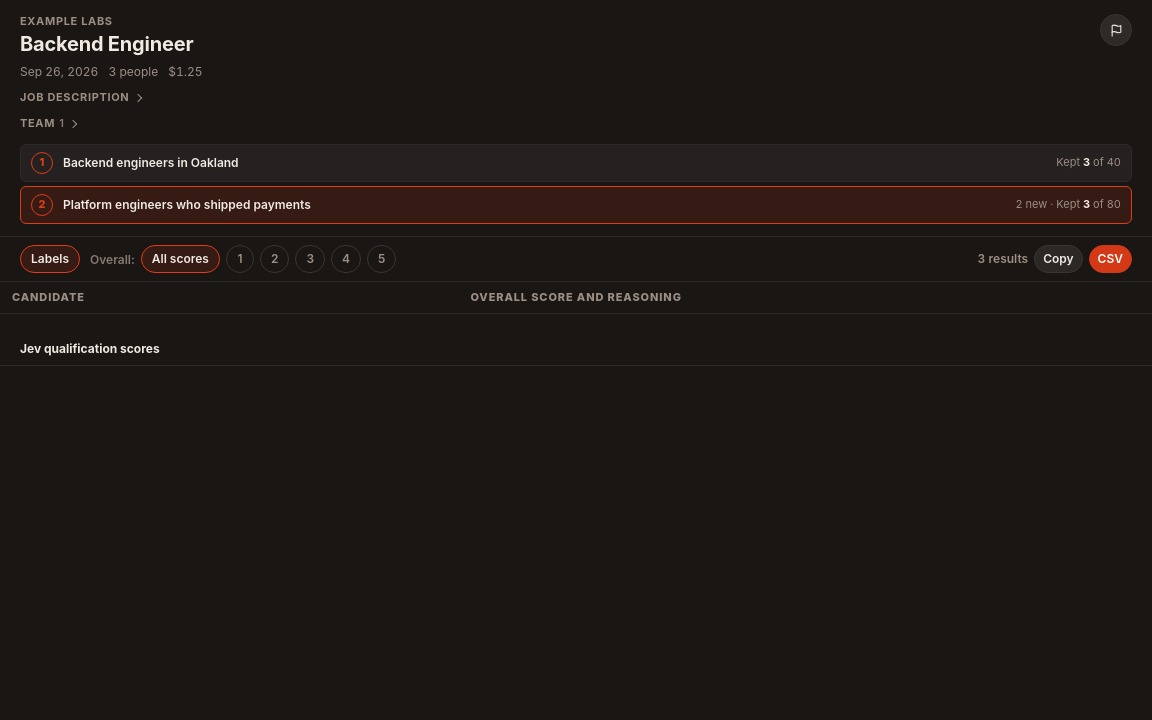
Test: RunView › opens a row in the drawer, swaps to another row, and closes on the same row
Click the button "Kept": click(187, 205) [20,186,1132,224]
(page scrolled)
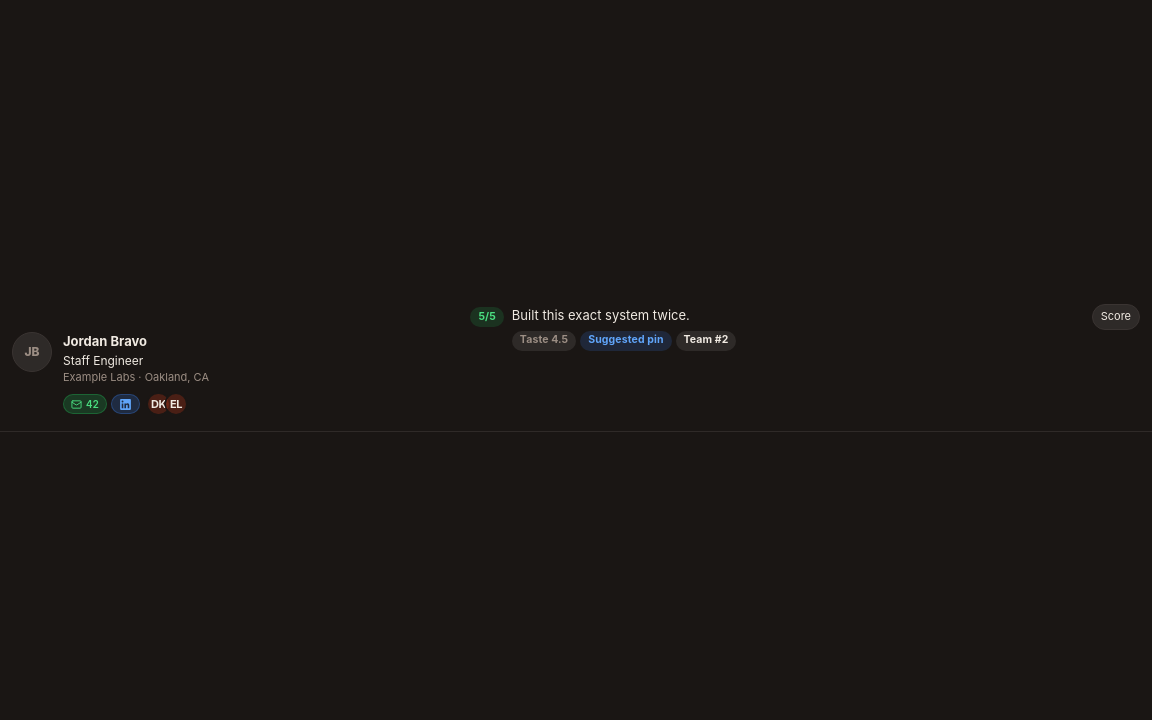
Click the row: click(576, 361) [0,290,1151,431]
(page scrolled)
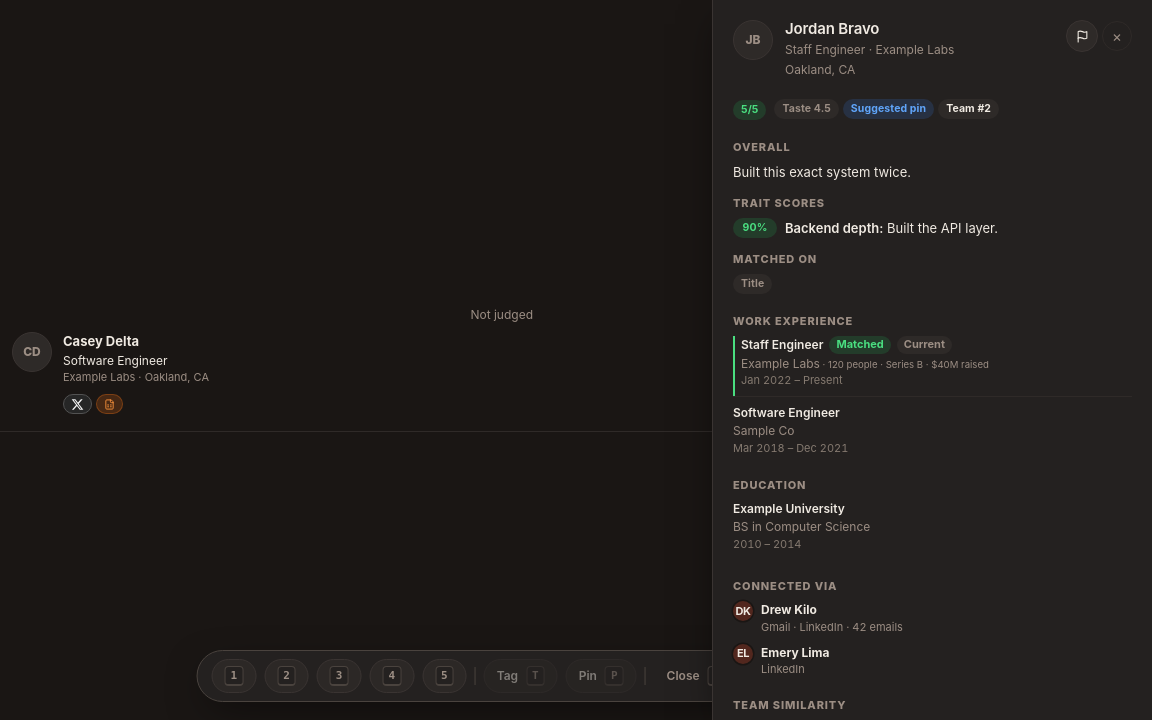
Check: the text "Built this exact system twice." is shown, box [733,164,911,180]
Check: the text "Example University" is shown, box [733,500,845,517]
Click the row: click(576, 361) [0,290,1151,431]
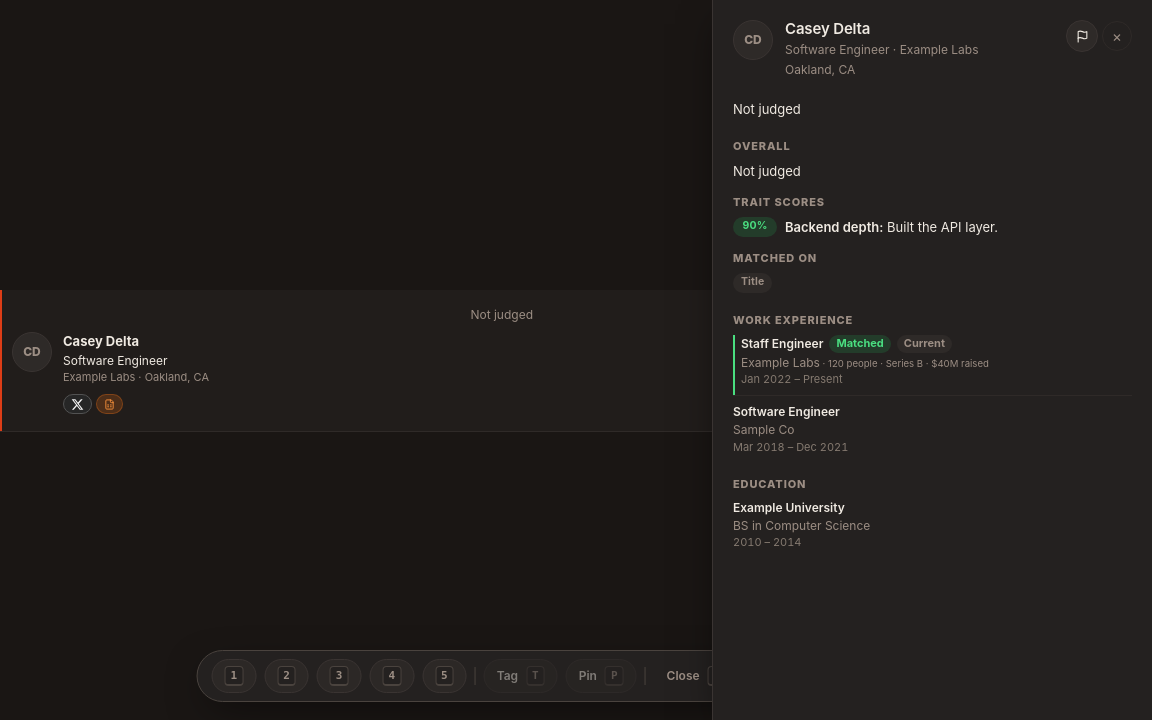
Check: the text "Casey Delta" is shown, box [63,332,139,351]
Click the row: click(576, 361) [0,290,1151,431]
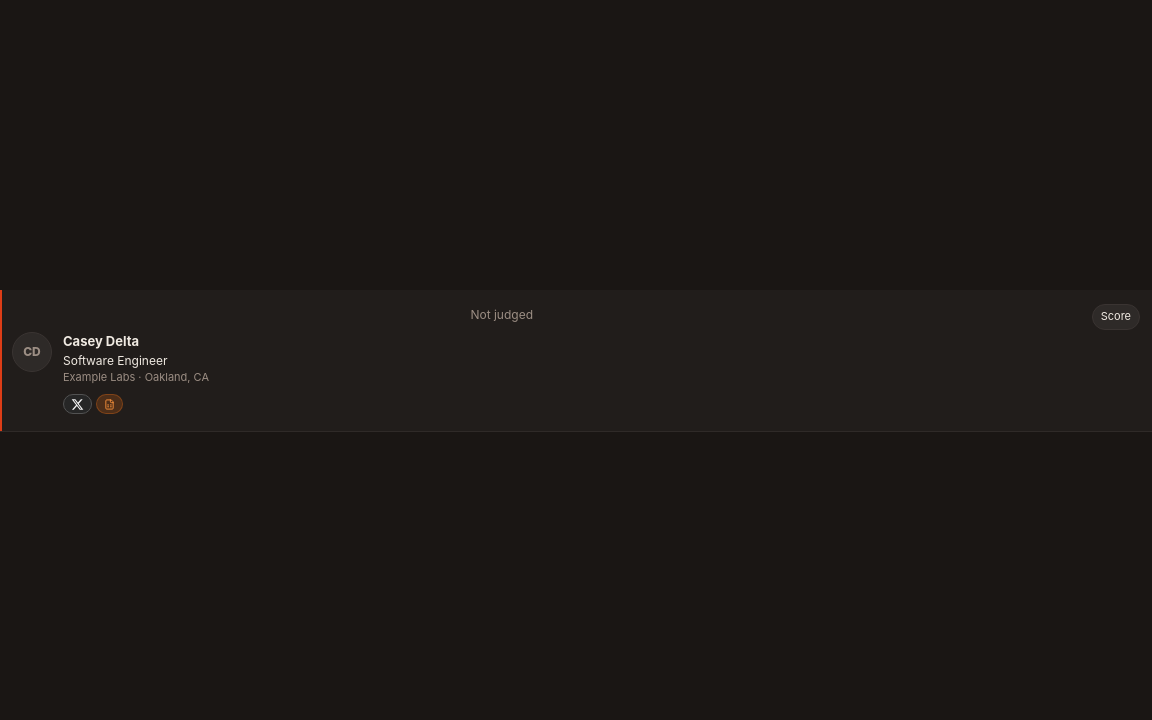
Check: the element "Review" is gone
